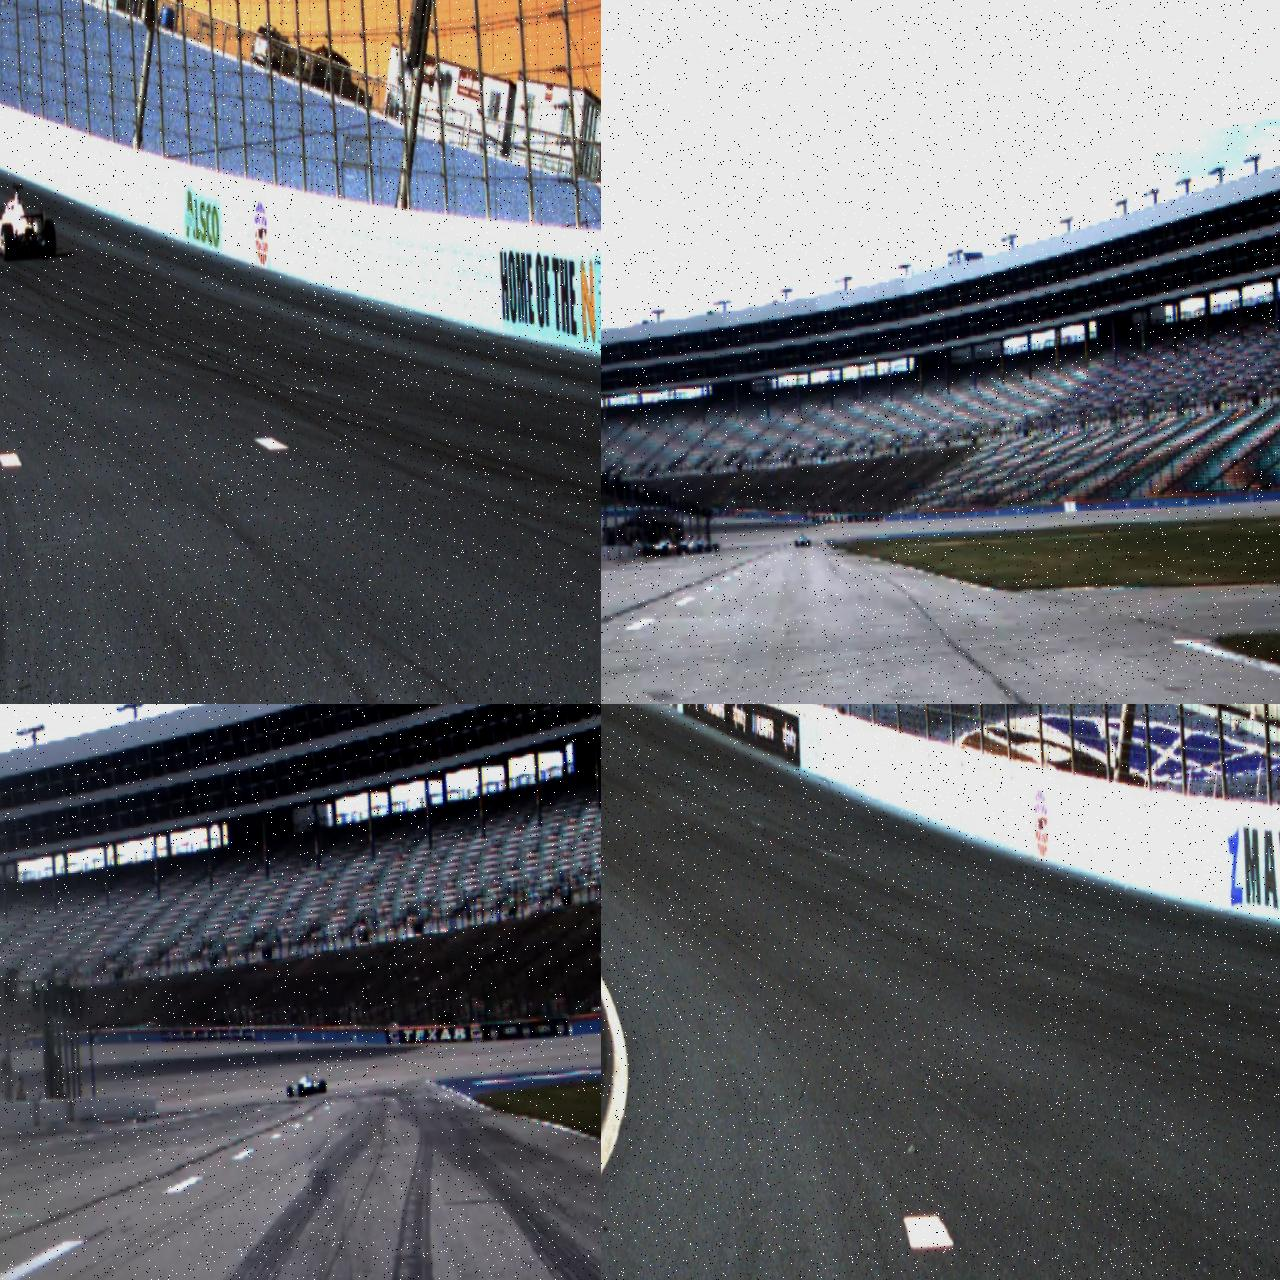AV: (0, 182, 56, 261), (286, 1070, 326, 1097), (794, 533, 810, 547)
Wheel: (0, 223, 14, 260), (43, 218, 55, 256), (318, 1078, 325, 1092), (298, 1083, 304, 1096), (286, 1085, 292, 1097)
